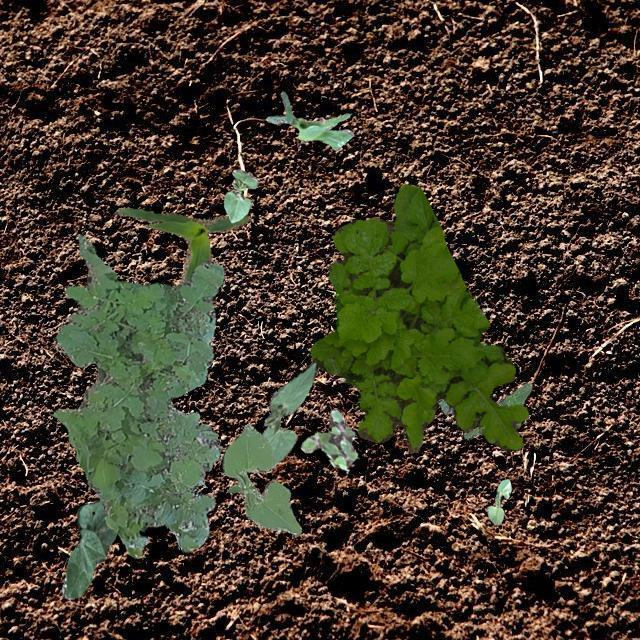crop: (115, 205, 248, 282), (222, 422, 300, 534), (260, 361, 318, 466), (60, 499, 116, 598), (266, 90, 352, 148), (222, 168, 258, 222), (486, 478, 510, 524)
weed: (308, 184, 528, 452), (51, 233, 222, 556), (436, 382, 530, 438), (170, 406, 218, 484), (299, 408, 356, 471)
